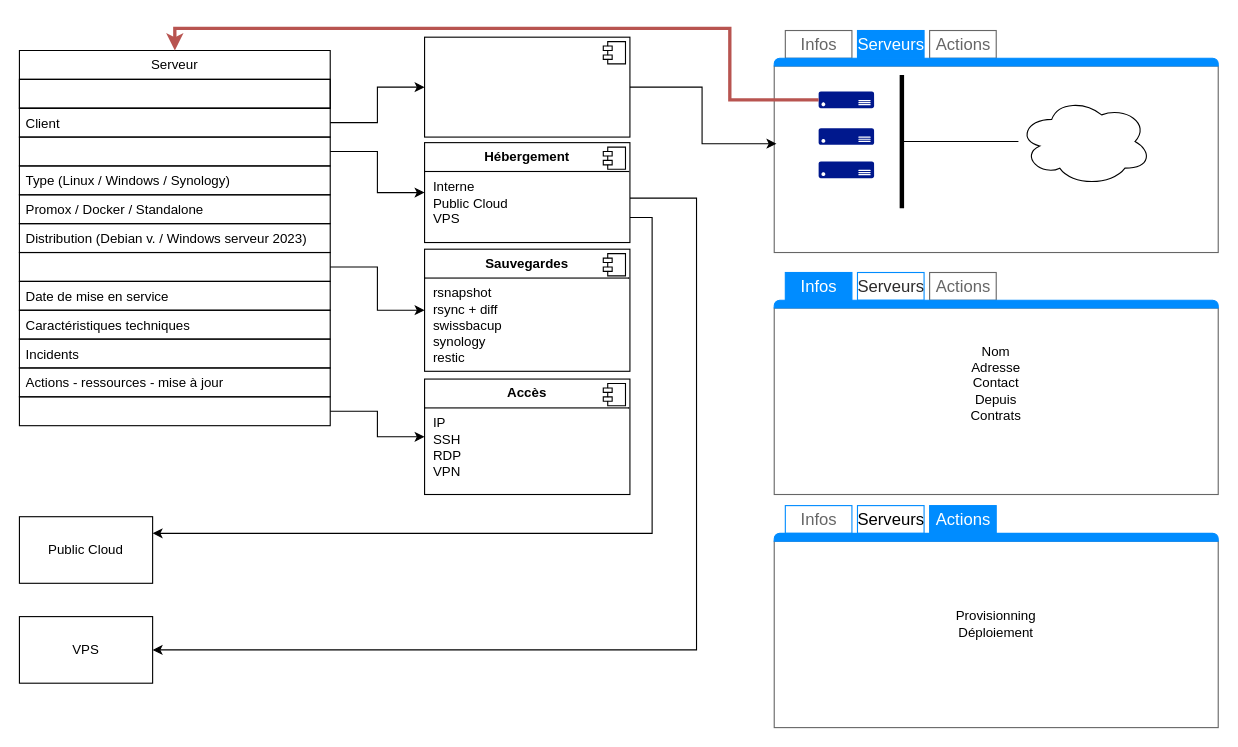
The diagram is 1238 pixels wide and 747 high, and some of its shapes have lost their labels. The shapes that lost their labels are listed below. From the top down, each one's centre as x and y in pixels, then its label:
At point (174, 93): "Nom".
At point (526, 86): "Client Nom Adresse Contacts Contrats".
At point (174, 151): "Hébergement - interne - Public Cloud - VPS".
At point (174, 266): "Sauvegardes".
At point (174, 411): "Accès - IP - Type - SSH - RDP - VPN".
